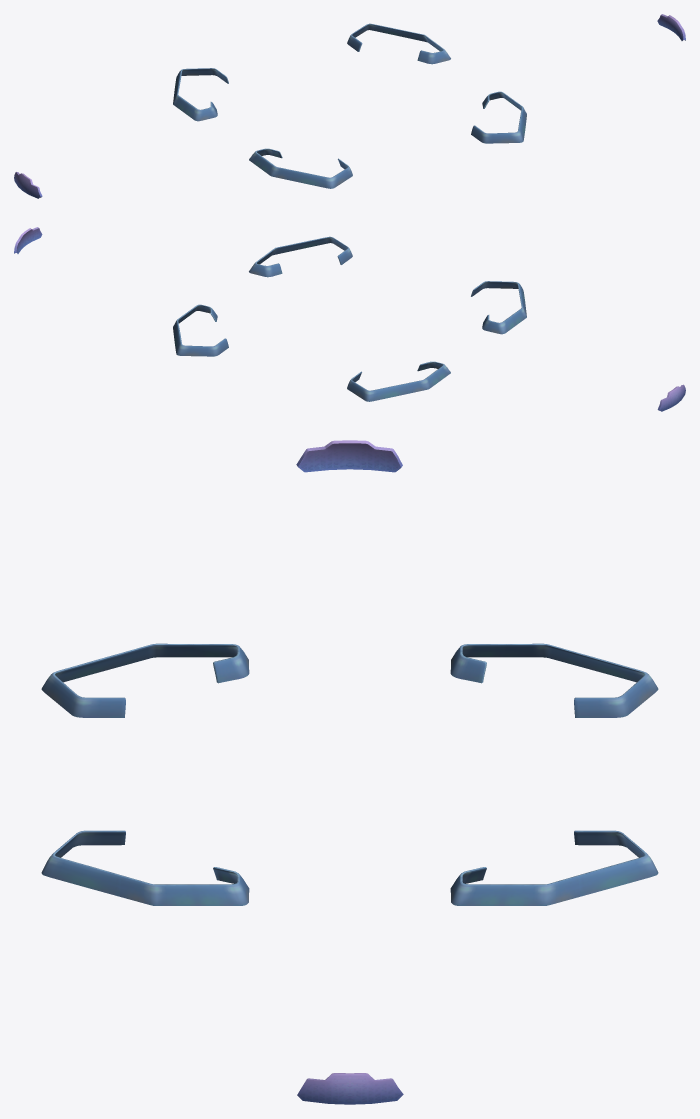
File: pref_sm_4v4pointbake_WSJ_CSD_BL_lv0.fbx
The picture shows the model from 3 angles, top to bottom: view 1: azimuth 30°, elevation 25°; view 2: azimuth 150°, elevation 25°; view 3: azimuth 270°, elevation 25°; orthographic projection. The views are drawn at different scales.
Visible parts, largest first — view 1: sm_4v4pointbake_CSD_BL03_lv0, sm_4v4pointbake_CSD_BL04_lv0, sm_4v4pointbake_CSD_BL01_lv0, sm_4v4pointbake_CSD_BL02_lv0; view 2: sm_4v4pointbake_CSD_BL03_lv0, sm_4v4pointbake_CSD_BL04_lv0, sm_4v4pointbake_CSD_BL01_lv0, sm_4v4pointbake_CSD_BL02_lv0; view 3: sm_4v4pointbake_CSD_BL04_lv0, sm_4v4pointbake_CSD_BL03_lv0, sm_4v4pointbake_CSD_BL02_lv0, sm_4v4pointbake_CSD_BL01_lv0.
Part boxes in pixels (left/top/right/bottom): sm_4v4pointbake_CSD_BL03_lv0: left=173, top=68, right=352, bottom=188; sm_4v4pointbake_CSD_BL04_lv0: left=347, top=23, right=526, bottom=143; sm_4v4pointbake_CSD_BL01_lv0: left=14, top=172, right=42, bottom=198; sm_4v4pointbake_CSD_BL02_lv0: left=657, top=14, right=685, bottom=40; sm_4v4pointbake_CSD_BL03_lv0: left=347, top=281, right=526, bottom=401; sm_4v4pointbake_CSD_BL04_lv0: left=173, top=236, right=352, bottom=356; sm_4v4pointbake_CSD_BL01_lv0: left=657, top=384, right=685, bottom=411; sm_4v4pointbake_CSD_BL02_lv0: left=14, top=227, right=42, bottom=253; sm_4v4pointbake_CSD_BL04_lv0: left=41, top=830, right=658, bottom=905; sm_4v4pointbake_CSD_BL03_lv0: left=41, top=643, right=658, bottom=717; sm_4v4pointbake_CSD_BL02_lv0: left=297, top=1073, right=403, bottom=1104; sm_4v4pointbake_CSD_BL01_lv0: left=296, top=440, right=402, bottom=472.
Size of the model in its own units: 77.24 by 1.6 by 31.5.
3 materials, 3 textured.
